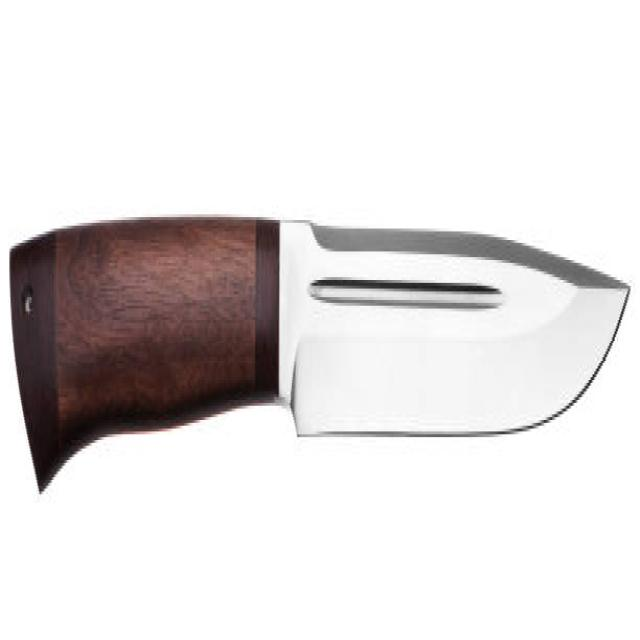knife: (4, 196, 635, 567)
